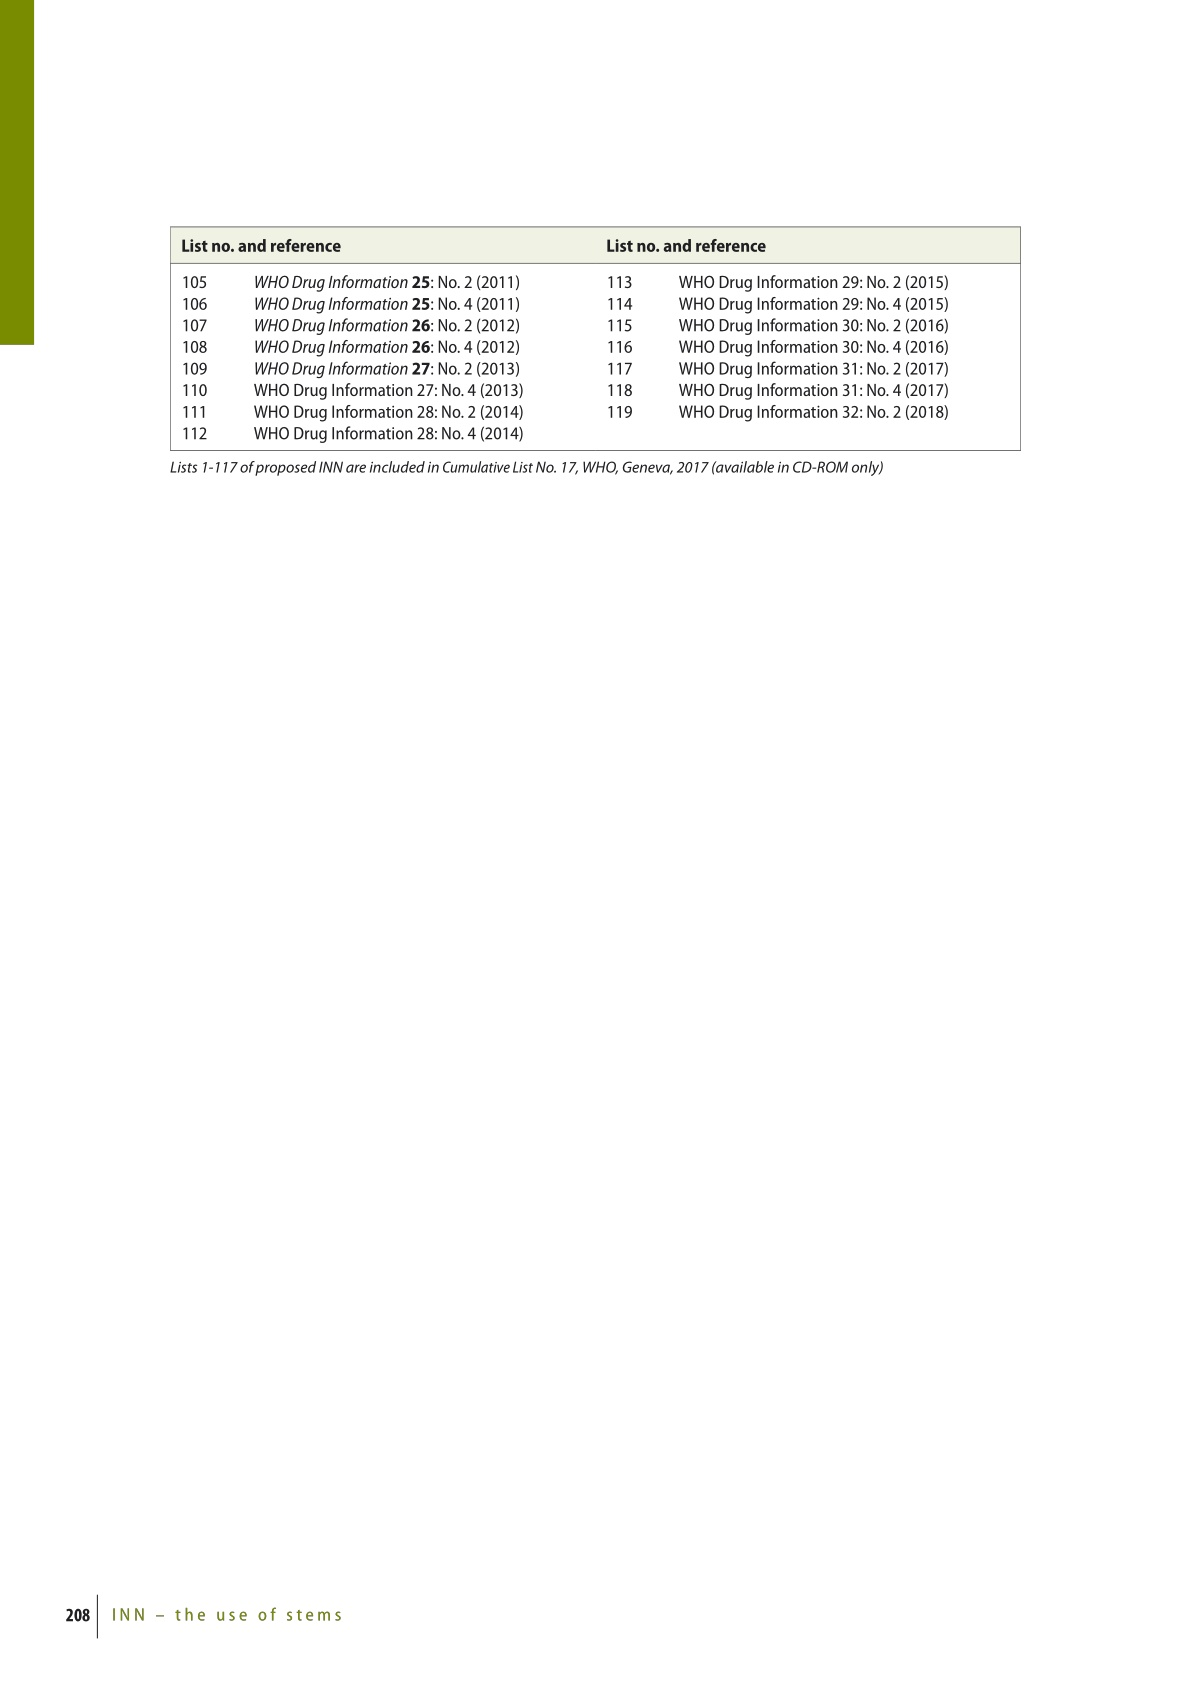partial_lined_merged_cells: (170, 224, 1021, 450)
